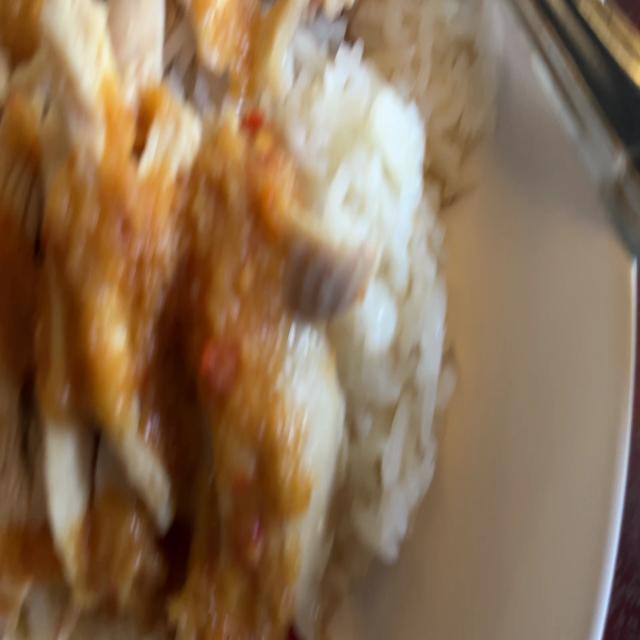boiled_chicken: (0, 0, 302, 640)
chicken_rice: (0, 0, 503, 640)
